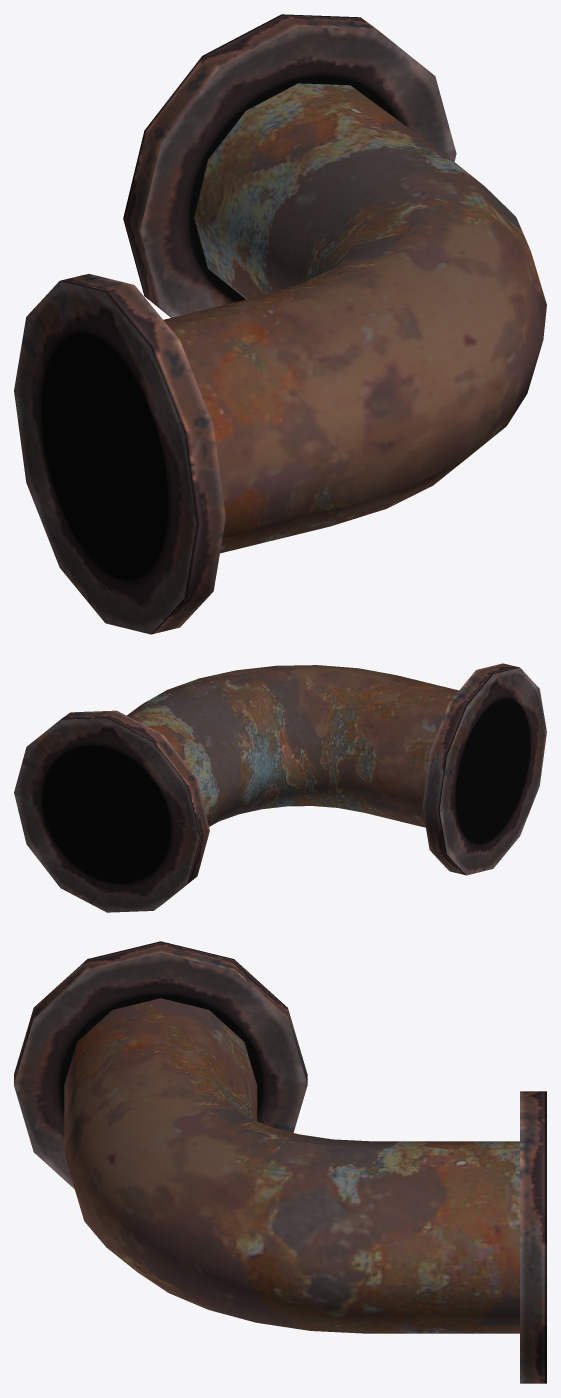
File: pipe02_L.fbx
The picture shows the model from 3 angles, top to bottom: view 1: azimuth 30°, elevation 25°; view 2: azimuth 150°, elevation 25°; view 3: azimuth 270°, elevation 25°; orthographic projection. The views are drawn at different scales.
Parts seen in each view (by area): view 1: pipe02_L; view 2: pipe02_L; view 3: pipe02_L.
Part boxes in pixels (x1,y1,x2,y2): pipe02_L: (14,14,546,634); pipe02_L: (14,663,546,912); pipe02_L: (14,941,546,1383).
Bounding box in the file's own units: 69 × 38 × 69.
